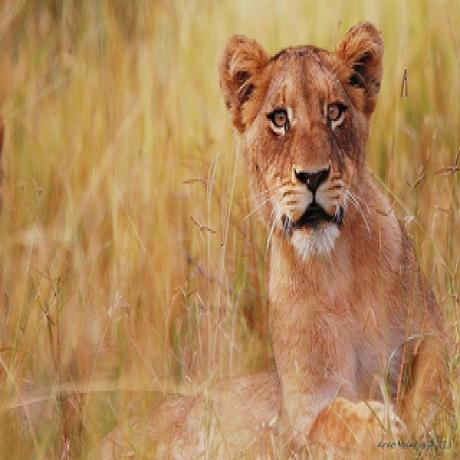Lion: (217, 18, 451, 450)
